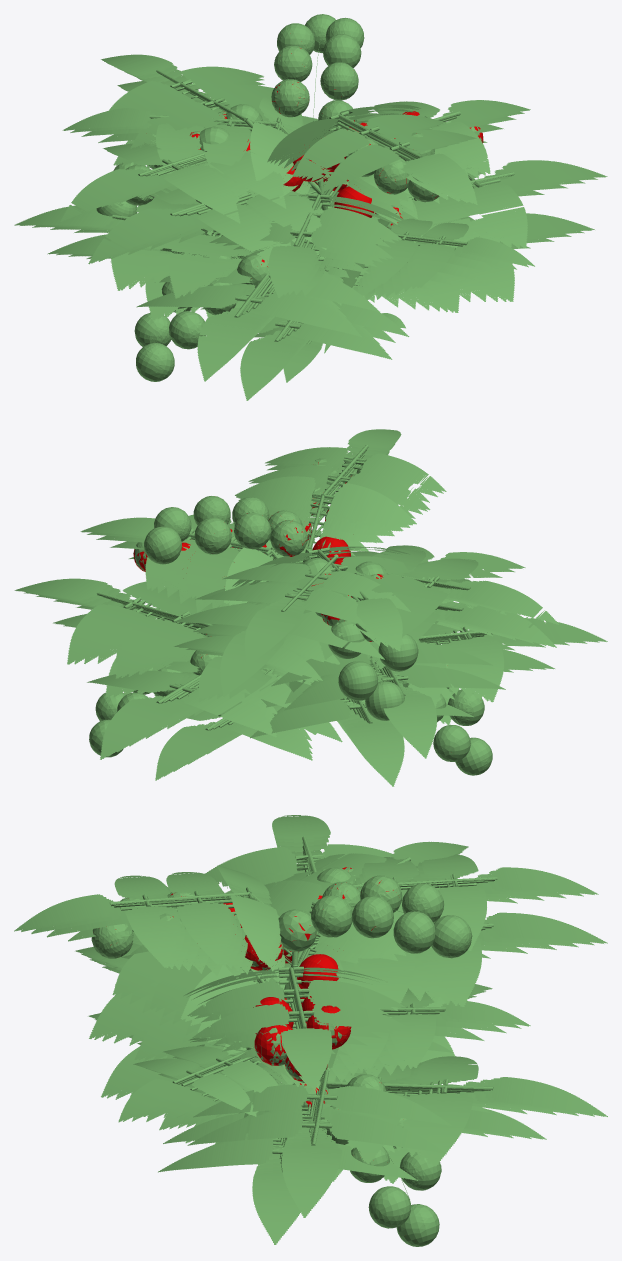
File: plant_growth_full.min.glb
The picture shows the model from 3 angles, top to bottom: view 1: azimuth 30°, elevation 25°; view 2: azimuth 150°, elevation 25°; view 3: azimuth 270°, elevation 25°; orthographic projection. The views are drawn at different scales.
Visible parts, largest first — view 1: step0103, step0112, step0100, step088, step091, step0106, step094, step097, step085, step079, step067, step070 (+25 smaller); view 2: step0103, step0112, step0100, step085, step0106, step088, step091, step094, step097, step079, step082, step073 (+24 smaller); view 3: step0103, step0100, step0112, step088, step085, step0106, step091, step094, step097, step079, step082, step058 (+21 smaller).
Boxes of the visible parts, x1,y1,x2,y2 form: step0103: (22,17,605,395); step0112: (23,44,597,393); step0100: (16,19,596,398); step088: (24,44,602,400); step091: (21,45,601,393); step0106: (39,16,600,399); step094: (16,40,603,397); step097: (22,32,595,395); step085: (23,63,603,396); step079: (14,78,607,387); step067: (50,65,594,392); step070: (32,52,597,396); step0103: (16,429,600,783); step0112: (21,429,604,784); step0100: (20,431,597,785); step085: (23,429,589,783); step0106: (24,429,602,778); step088: (20,429,590,780); step091: (18,429,607,786); step094: (19,429,607,780); step097: (23,429,566,784); step079: (14,429,601,769); step082: (16,430,602,786); step073: (16,429,601,781); step0103: (16,815,607,1243); step0100: (36,815,602,1240); step0112: (15,815,606,1242); step088: (21,816,600,1233); step085: (19,816,603,1244); step0106: (17,815,606,1246); step091: (20,816,605,1239); step094: (17,815,603,1228); step097: (23,815,590,1206); step079: (29,833,605,1243); step082: (38,834,606,1241); step058: (31,842,594,1240).
Bounding box in the file's own units: 0.4197 × 0.1971 × 0.3533.
